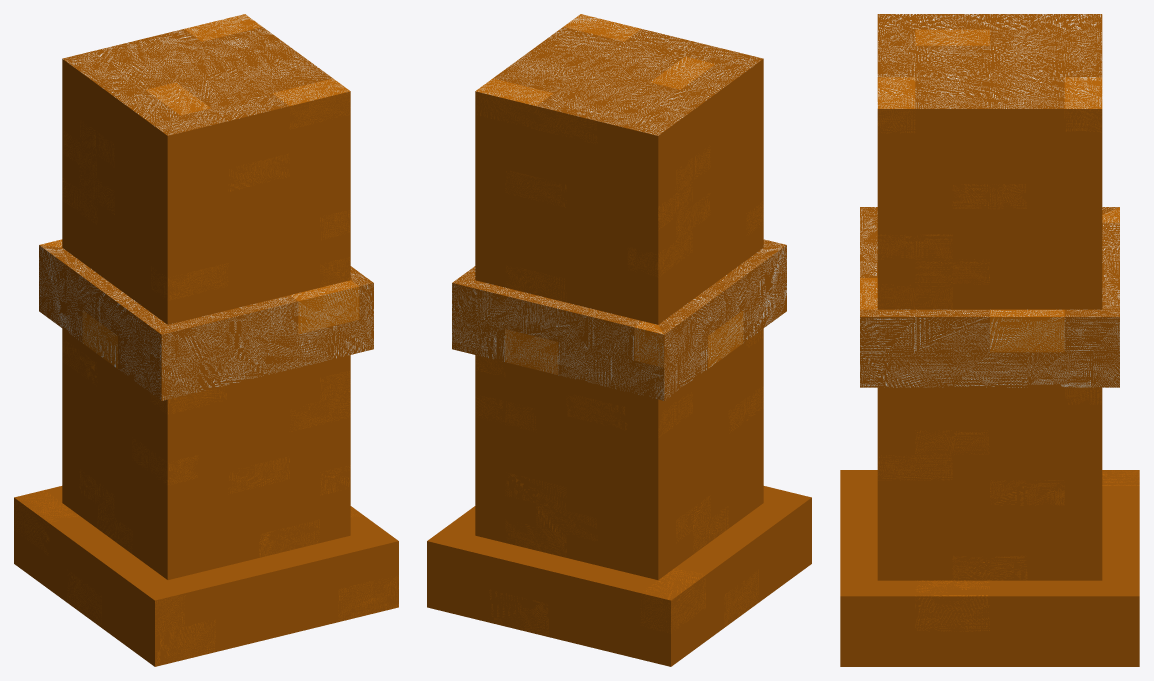
File: BasGaucheV2.fbx
The picture shows the model from 3 angles, left to right: view 1: azimuth 30°, elevation 25°; view 2: azimuth 150°, elevation 25°; view 3: azimuth 270°, elevation 25°; orthographic projection. The views are drawn at different scales.
Visible parts, largest first — view 1: group_0.031; view 2: group_0.031; view 3: group_0.031.
Part boxes in pixels (<box>): group_0.031: <box>14,14,398,666</box>; group_0.031: <box>427,14,811,666</box>; group_0.031: <box>840,14,1139,666</box>.
Size of the model in its own units: 3937 by 7874 by 3937.
